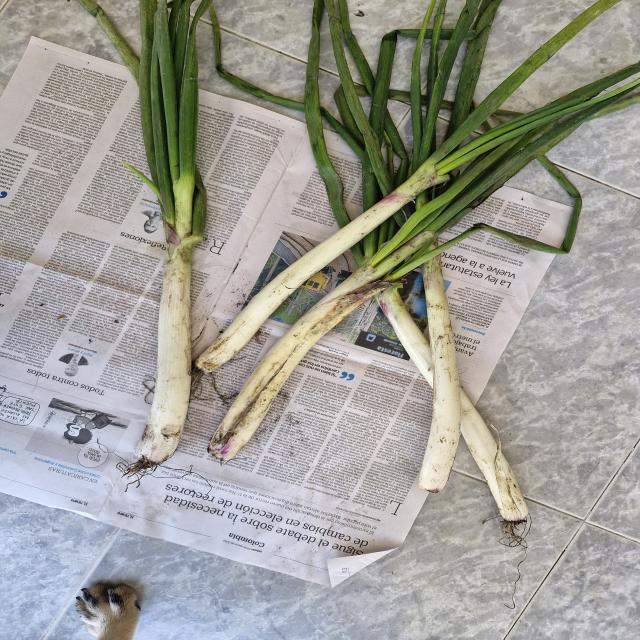green_onion: (197, 8, 640, 376), (138, 18, 223, 462)
